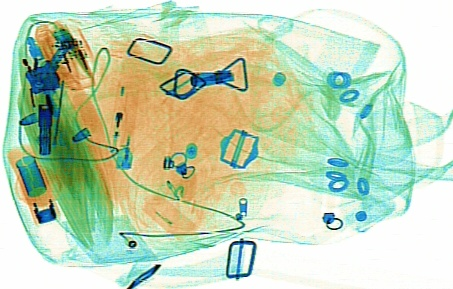lighter: (104, 76, 141, 170)
